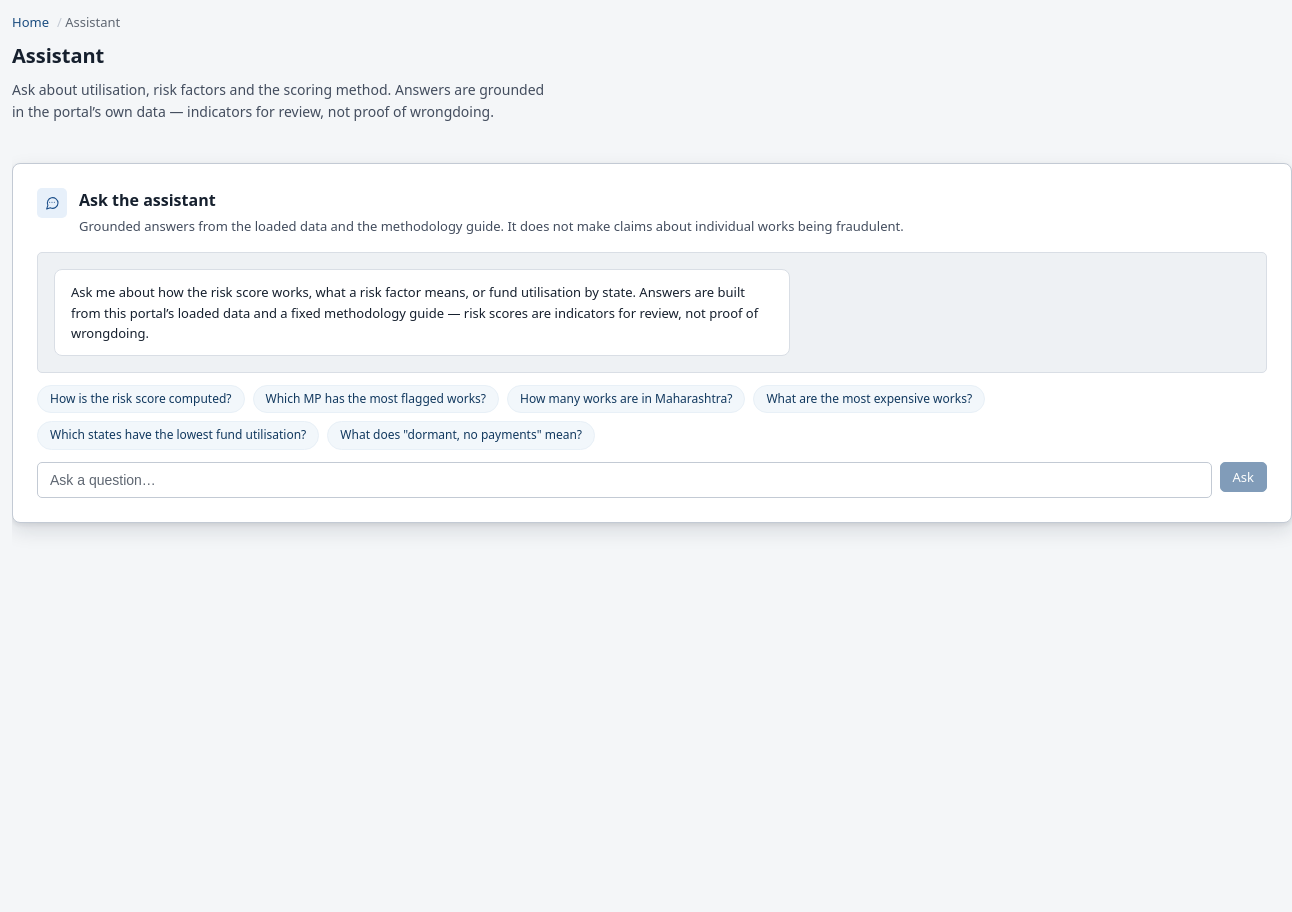
Scenario: AssistantPage › answers a starter prompt with a grounded reply and a deep link
Click the button "How is the risk score computed?".
click(141, 399)  # box [37,385,244,414]
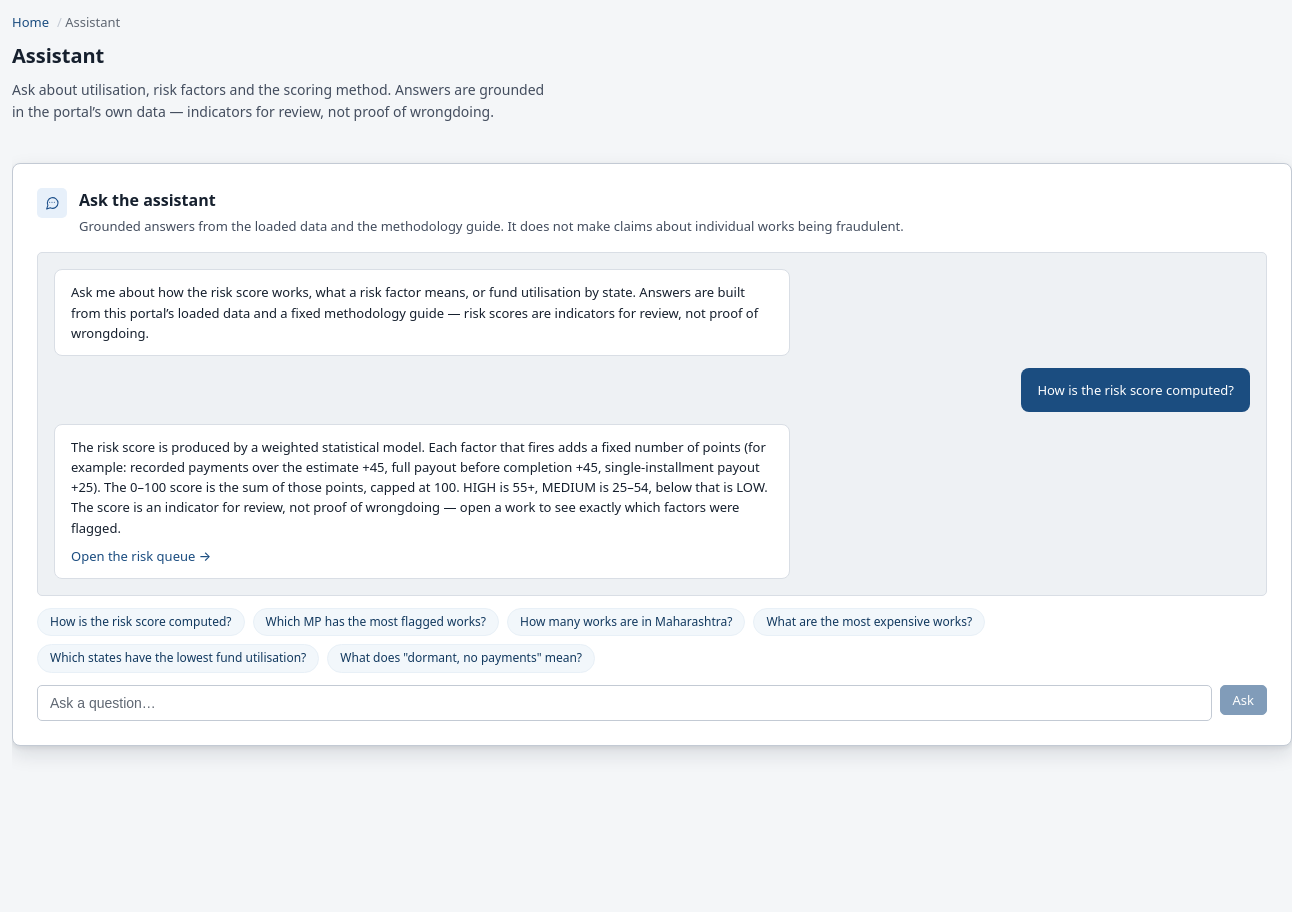
Now the text "weighted statistical model" is shown, box [71,438,771,537]
